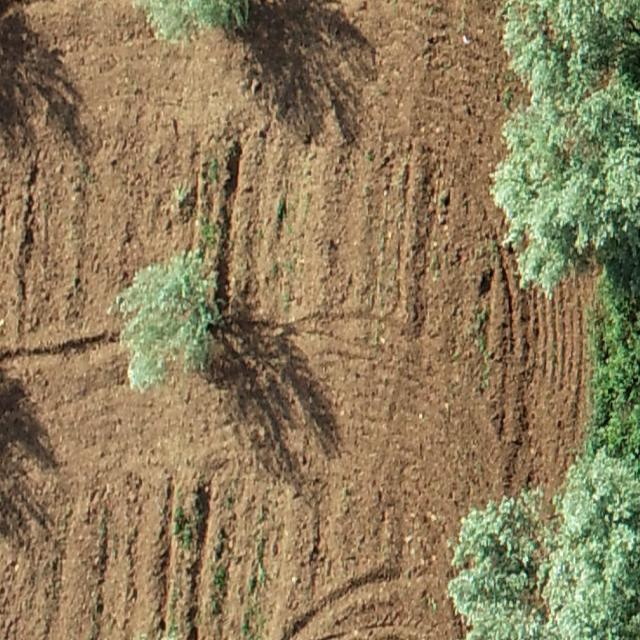trees: (495, 0, 640, 279), (449, 453, 640, 640), (116, 249, 220, 391), (135, 1, 249, 41)
